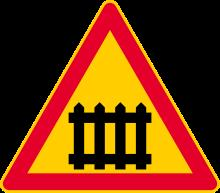Barrier Ahead: (11, 13, 208, 187)
